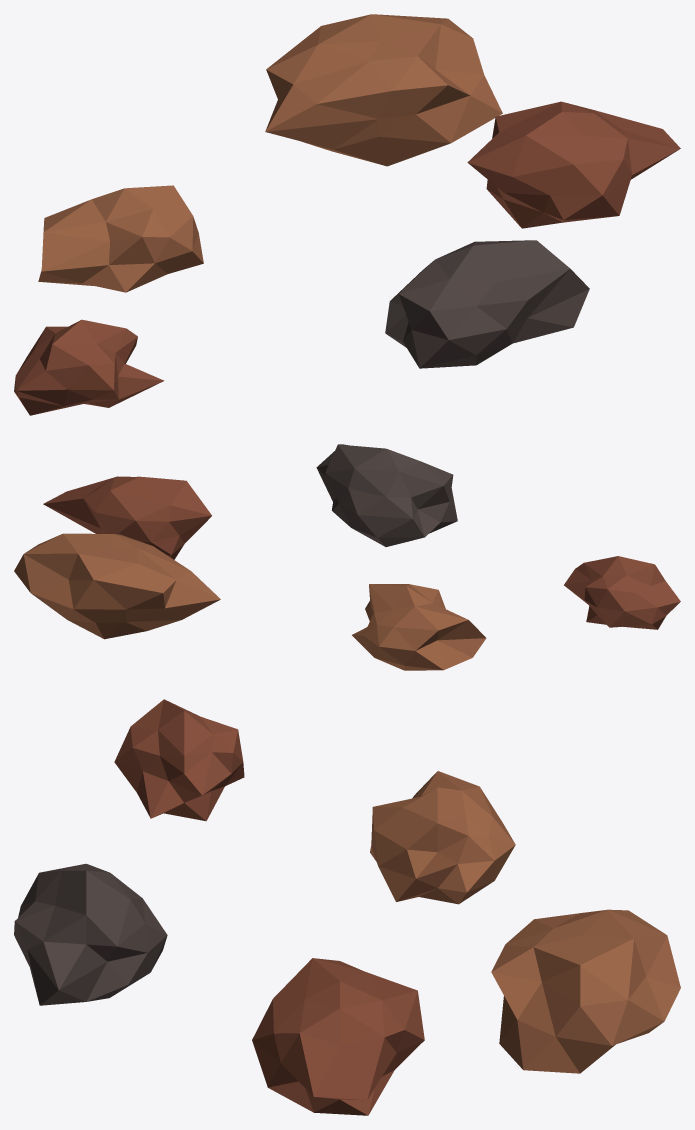
File: mars_stone_debris.glb
3 views of the same model, one above another, from view 1: azimuth 30°, elevation 25°; view 2: azimuth 150°, elevation 25°; view 3: azimuth 270°, elevation 25° (orthographic). The views are drawn at different scales.
Visible parts, largest first — view 1: Debris4, Debris2, Debris3, Debris1, Debris0; view 2: Debris4, Debris2, Debris3, Debris1, Debris0; view 3: Debris4, Debris3, Debris2, Debris1, Debris0.
Part boxes in pixels (x1=…): Debris4: x1=265, y1=14, x2=502, y2=166; Debris2: x1=385, y1=240, x2=589, y2=368; Debris3: x1=467, y1=101, x2=680, y2=228; Debris1: x1=38, y1=185, x2=203, y2=292; Debris0: x1=14, y1=319, x2=164, y2=415; Debris4: x1=14, y1=533, x2=220, y2=639; Debris2: x1=316, y1=444, x2=457, y2=546; Debris3: x1=43, y1=476, x2=211, y2=559; Debris1: x1=352, y1=584, x2=486, y2=670; Debris0: x1=564, y1=556, x2=680, y2=629; Debris4: x1=491, y1=909, x2=680, y2=1073; Debris3: x1=252, y1=958, x2=424, y2=1115; Debris2: x1=14, y1=863, x2=167, y2=1005; Debris1: x1=370, y1=771, x2=515, y2=904; Debris0: x1=114, y1=699, x2=244, y2=821.
Bounding box in the file's own units: 2.09 × 0.3224 × 1.5.
